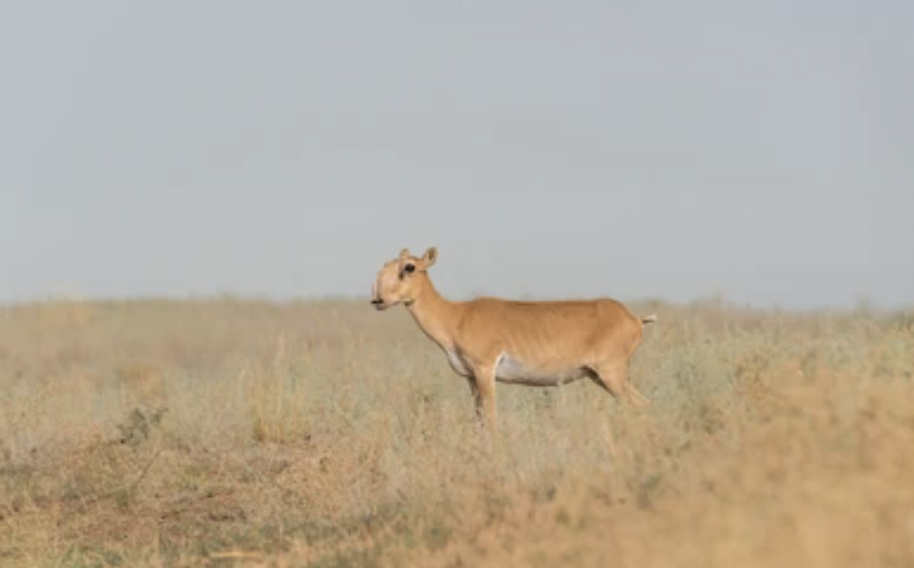saiga: (366, 237, 655, 427)
